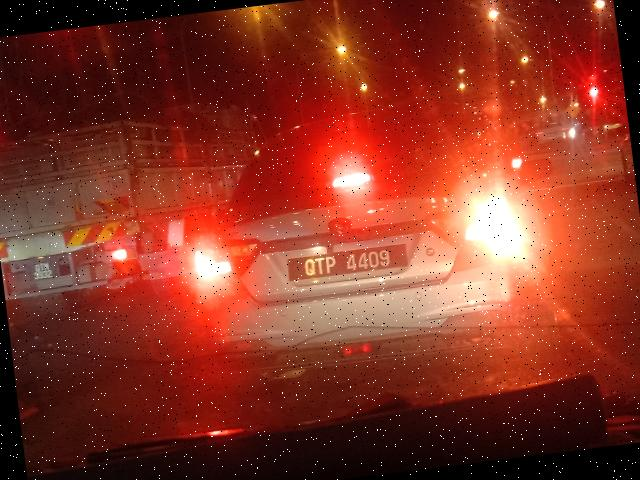License_Plate: (287, 246, 409, 282), (26, 262, 59, 283)
car: (156, 88, 570, 409)
lorry: (1, 107, 259, 322)
